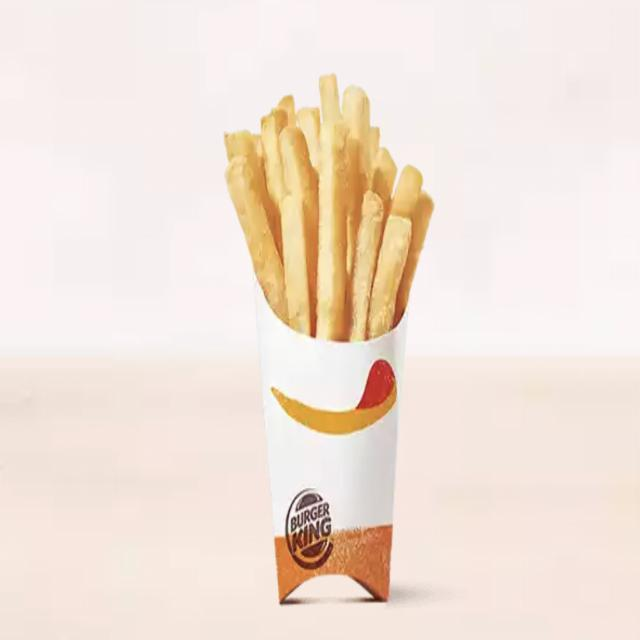Fries: (217, 62, 439, 610)
